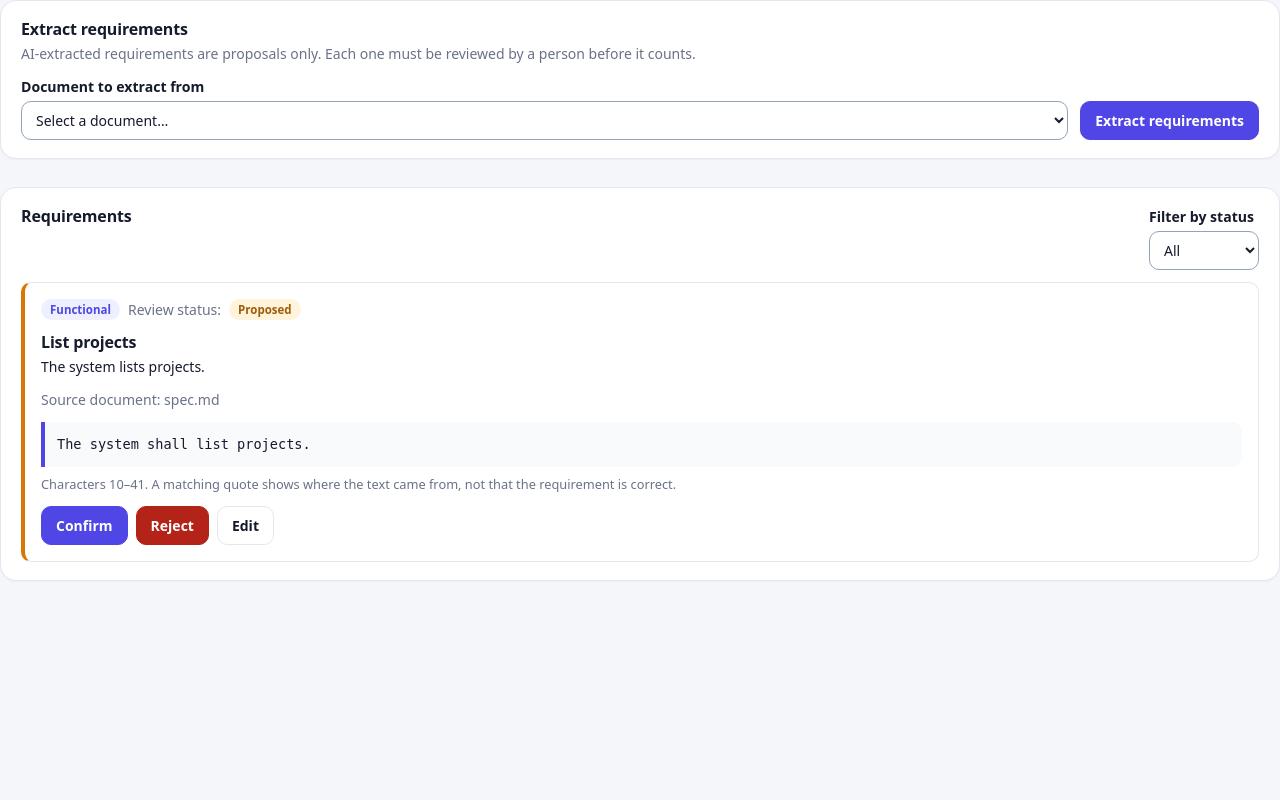
Test: RequirementsSection › confirms a proposed requirement and disables further review
Expected: the heading "List projects" is shown, [41,332,136,354]
What coordinates should you click on to do the following:
click the button "Confirm"
I would click on:
 (84, 526)
Its box is [41,506,128,545].
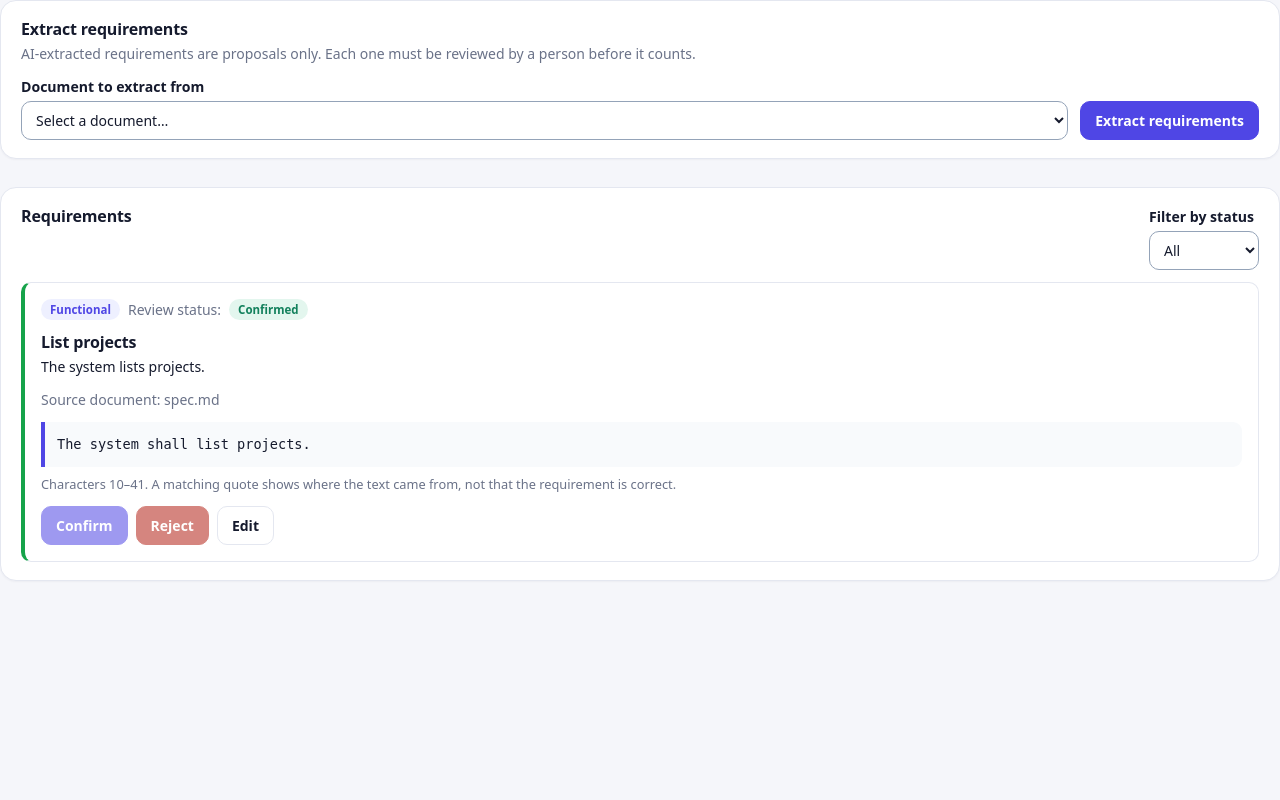
Now the text with test id "requirement-status" reads "confirmed", box [238,302,299,317]
Now the button "Confirm" is disabled, box [41,506,128,545]
Now the button "Reject" is disabled, box [136,506,209,545]
